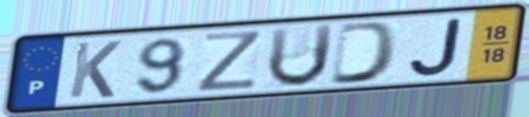9: (131, 35, 194, 96)
D: (326, 19, 401, 87)
J: (406, 16, 465, 79)
K: (65, 38, 125, 100)
U: (264, 21, 338, 90)
Z: (192, 29, 266, 95)
